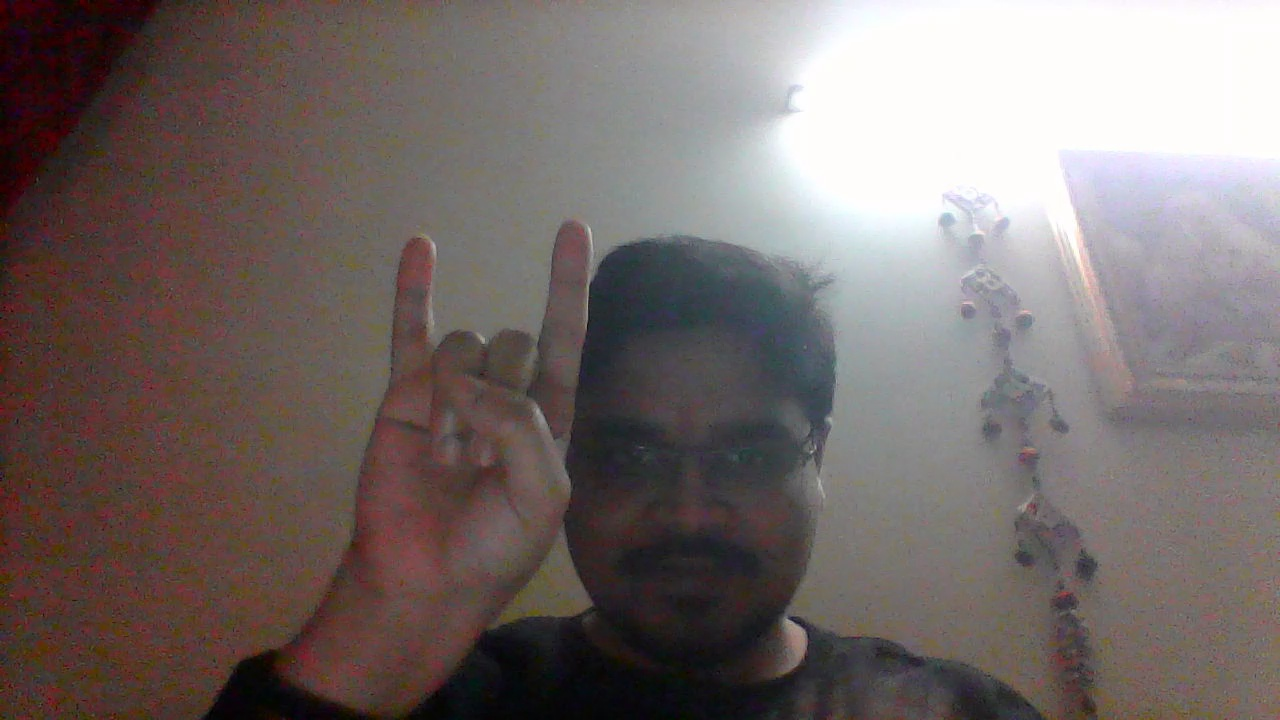ILoveYou: (348, 216, 593, 657)
